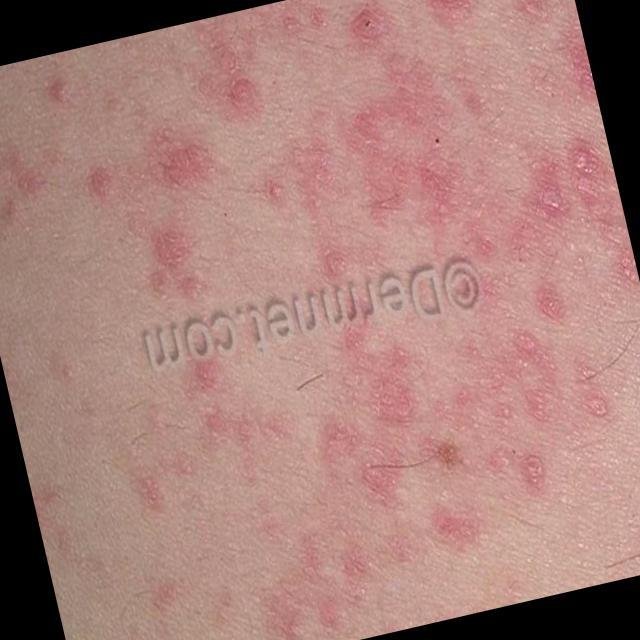Eczema: (10, 16, 608, 611)
